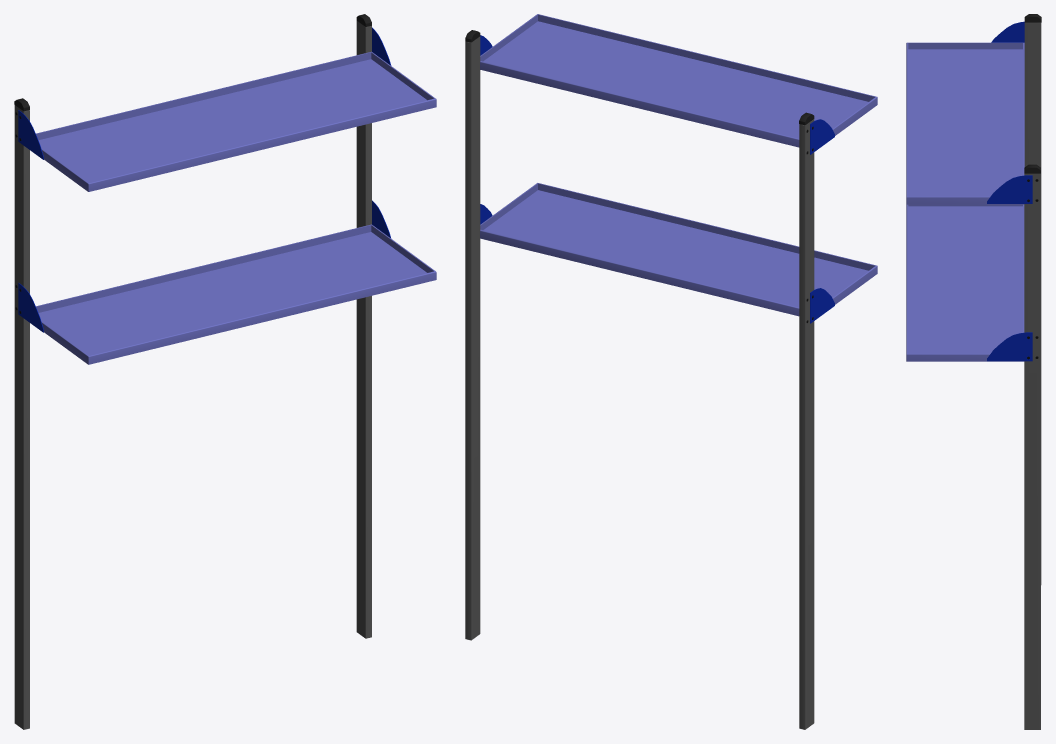
Rendered from EstanteriaMedia.fbx.
The picture shows the model from 3 angles, left to right: view 1: azimuth 30°, elevation 25°; view 2: azimuth 150°, elevation 25°; view 3: azimuth 270°, elevation 25°; orthographic projection. The views are drawn at different scales.
Parts seen in each view (by area): view 1: Box106, Box142, Box130, Box136; view 2: Box106, Box142, Box136, Box130; view 3: Box106, Box142, Box136, Box130, Box148, Box137, Box131.
Boxes of the visible parts, box(x1,y1,x2,y2) form: Box106: box(36, 51, 436, 191); Box142: box(36, 224, 436, 364); Box130: box(14, 98, 29, 729); Box136: box(356, 14, 371, 638); Box106: box(480, 14, 877, 147); Box142: box(480, 183, 877, 316); Box136: box(465, 30, 480, 640); Box130: box(799, 112, 814, 729); Box106: box(906, 42, 1024, 204); Box142: box(906, 204, 1024, 361); Box136: box(1024, 164, 1040, 729); Box130: box(1024, 14, 1041, 584); Box148: box(987, 332, 1032, 361); Box137: box(987, 175, 1032, 203); Box131: box(991, 21, 1024, 42).
Bounding box in the file's own units: 14.61 × 24.97 × 5.37.
